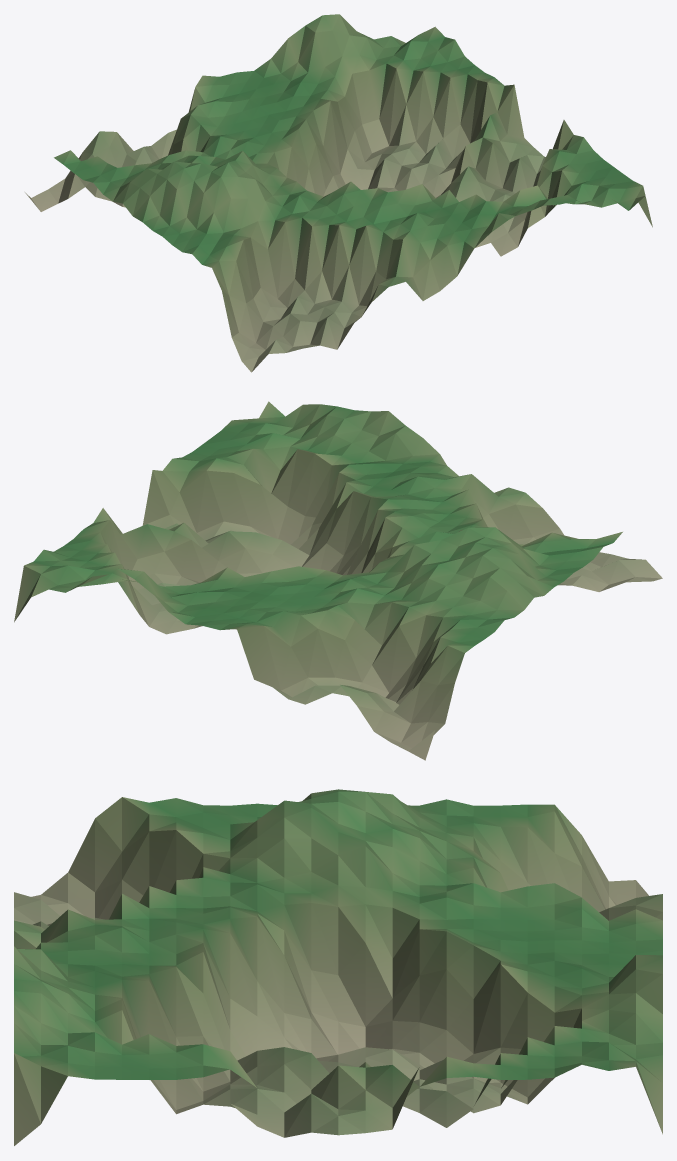
The model's file is tropical_lod2.glb.
The picture shows the model from 3 angles, top to bottom: view 1: azimuth 30°, elevation 25°; view 2: azimuth 150°, elevation 25°; view 3: azimuth 270°, elevation 25°; orthographic projection. The views are drawn at different scales.
Parts seen in each view (by area): view 1: world; view 2: world; view 3: world.
Boxes of the visible parts, left/top/right/bottom form: world: left=25, top=14, right=652, bottom=372; world: left=14, top=401, right=662, bottom=760; world: left=14, top=789, right=662, bottom=1145.
Size of the model in its own units: 2 by 0.5712 by 2.
